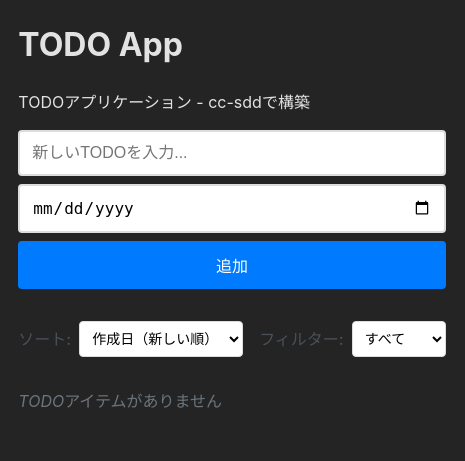
Test: App - E2E Integration Tests › LocalStorageへのデータ永続化
 アイテムを作成
Type "永続化テスト" into the field with placeholder "新しいTODOを入力..." at coordinates (232, 153), box 18,130 -> 446,176
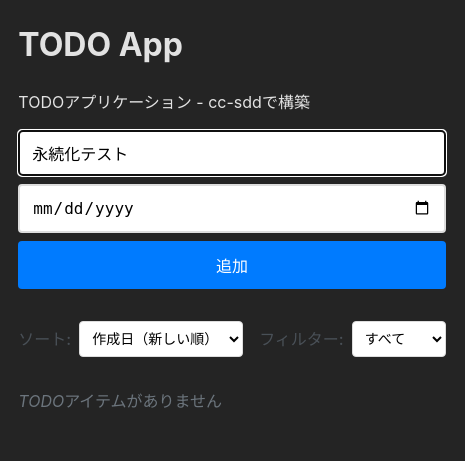
Click the button "追加" at coordinates (232, 265), box 18,241 -> 446,289
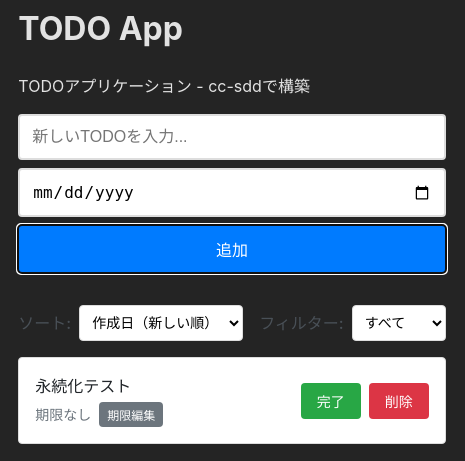
Expected: the text "永続化テスト" is shown, 35,376 -> 131,396
